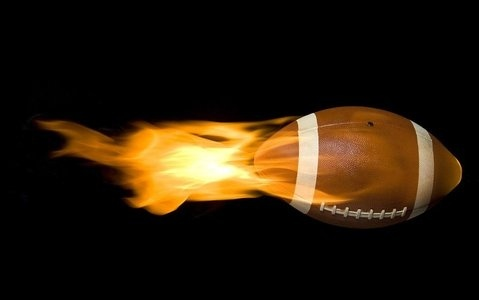fire: (22, 114, 286, 216)
